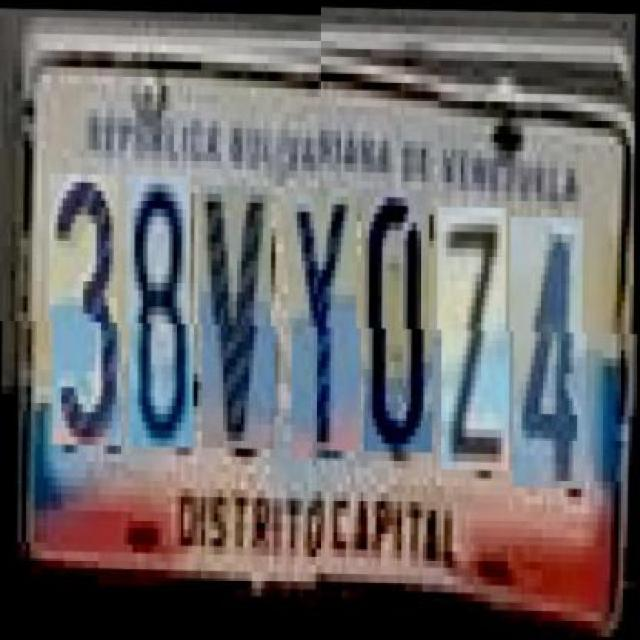0: (364, 195, 434, 459)
3: (53, 173, 122, 445)
4: (514, 221, 588, 494)
8: (130, 175, 196, 447)
v: (202, 185, 276, 448)
y: (290, 193, 362, 458)
z: (441, 212, 512, 477)
